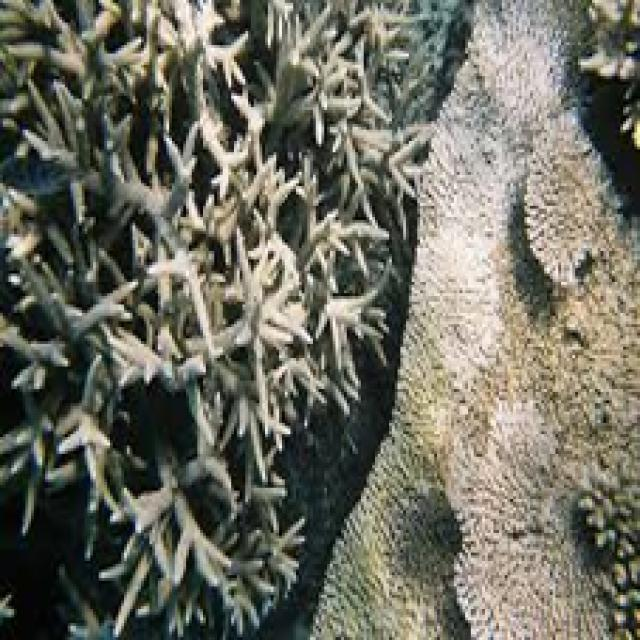Bleached: (1, 1, 311, 640), (409, 1, 640, 640), (288, 1, 419, 341), (447, 402, 599, 640), (311, 335, 425, 640), (525, 129, 615, 298), (577, 480, 640, 640), (576, 1, 640, 82), (615, 83, 640, 145)
